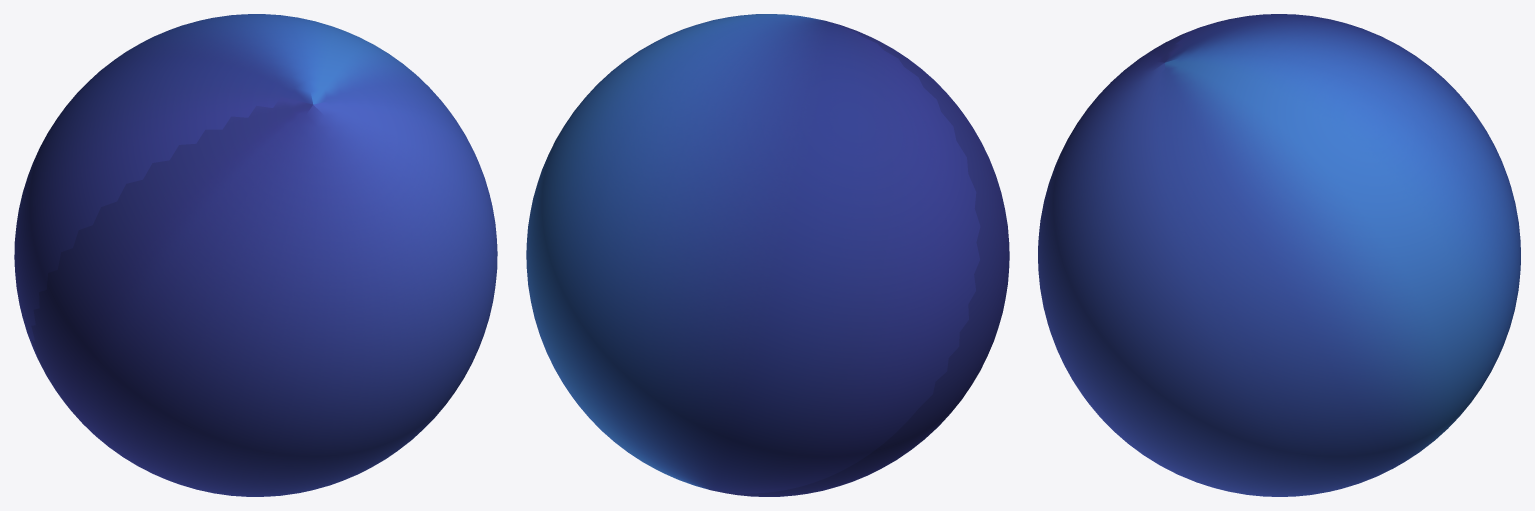
The model's file is Neptune.fbx.
3 renders of one model, left to right at view 1: azimuth 30°, elevation 25°; view 2: azimuth 150°, elevation 25°; view 3: azimuth 270°, elevation 25°, orthographic.
Parts seen in each view (by area): view 1: NeptuneAtmosphere; view 2: NeptuneAtmosphere; view 3: NeptuneAtmosphere.
Part boxes in pixels (x1,y1,x2,y2): NeptuneAtmosphere: (14, 14, 497, 496); NeptuneAtmosphere: (526, 14, 1009, 496); NeptuneAtmosphere: (1038, 14, 1520, 496).
Size of the model in its own units: 42 by 42 by 41.97.
Materials: 2 (2 with a texture image).
